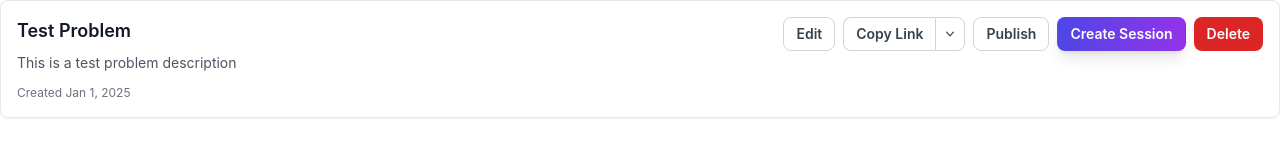
Test: ProblemCard › Copy Link button › shows Copied! feedback after clicking
The image size is (1280, 160).
Click the button "Copy Link": (889, 34) x1=843 y1=17 x2=936 y2=51
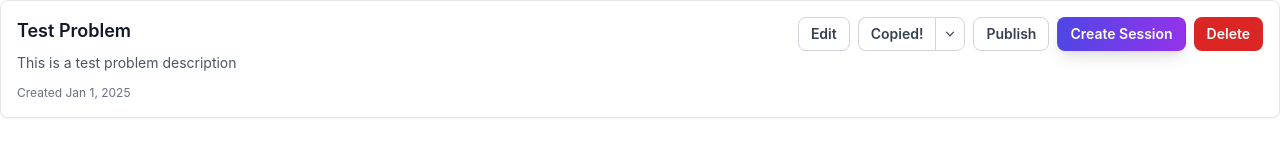
expect the button "Copied!" is shown: met, box x1=858 y1=17 x2=936 y2=51
